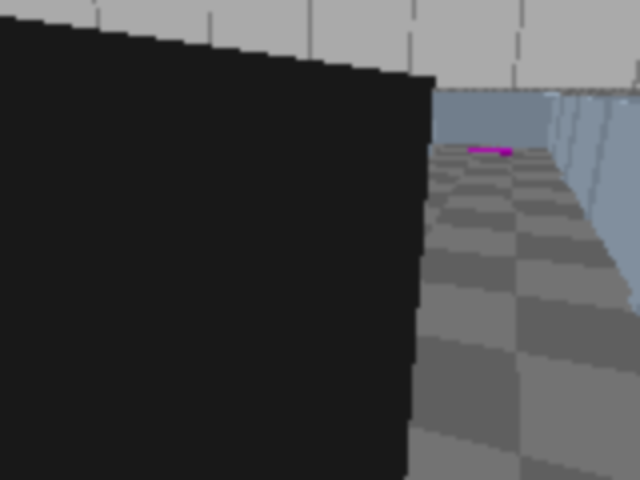goal_zone: (468, 147, 514, 155)
puck: (0, 281, 23, 309)
